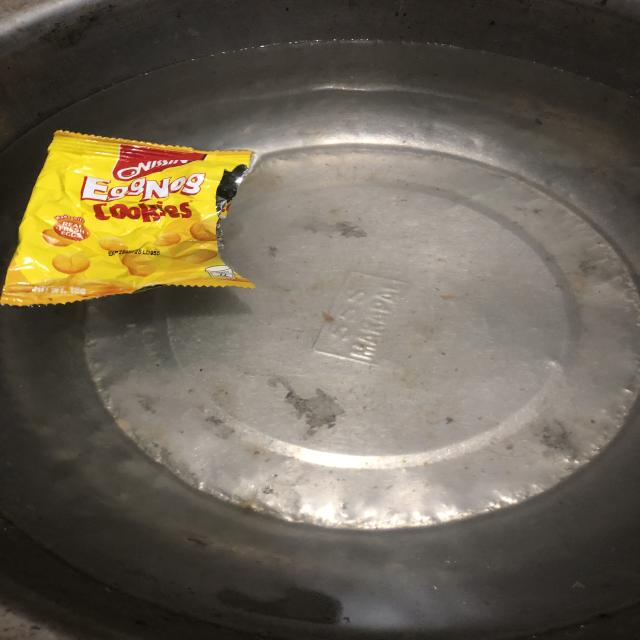Plastic Wrapper: (0, 129, 257, 306)
